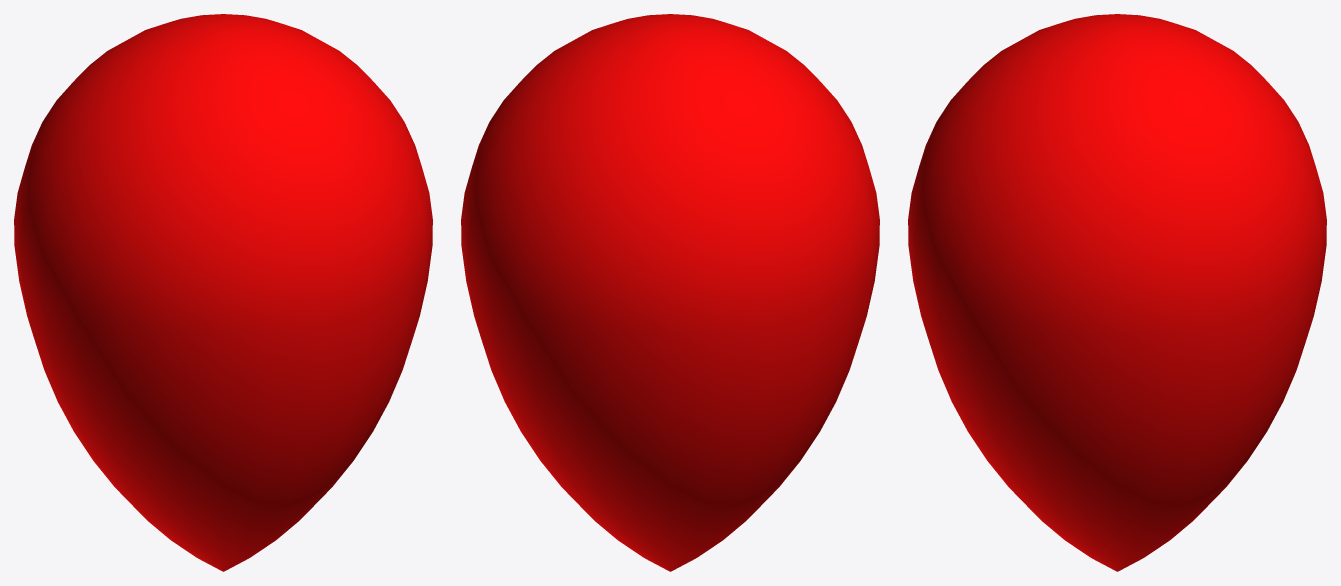
File: bal.glb
3 views of the same model, side by side, from view 1: azimuth 30°, elevation 25°; view 2: azimuth 150°, elevation 25°; view 3: azimuth 270°, elevation 25° (orthographic).
Parts seen in each view (by area): view 1: Balloon; view 2: Balloon; view 3: Balloon.
Part boxes in pixels (x1,y1,x2,y2): Balloon: (14, 14, 432, 571); Balloon: (461, 14, 879, 571); Balloon: (908, 14, 1326, 571).
Size of the model in its own units: 0.0506 by 0.0722 by 0.0506.
